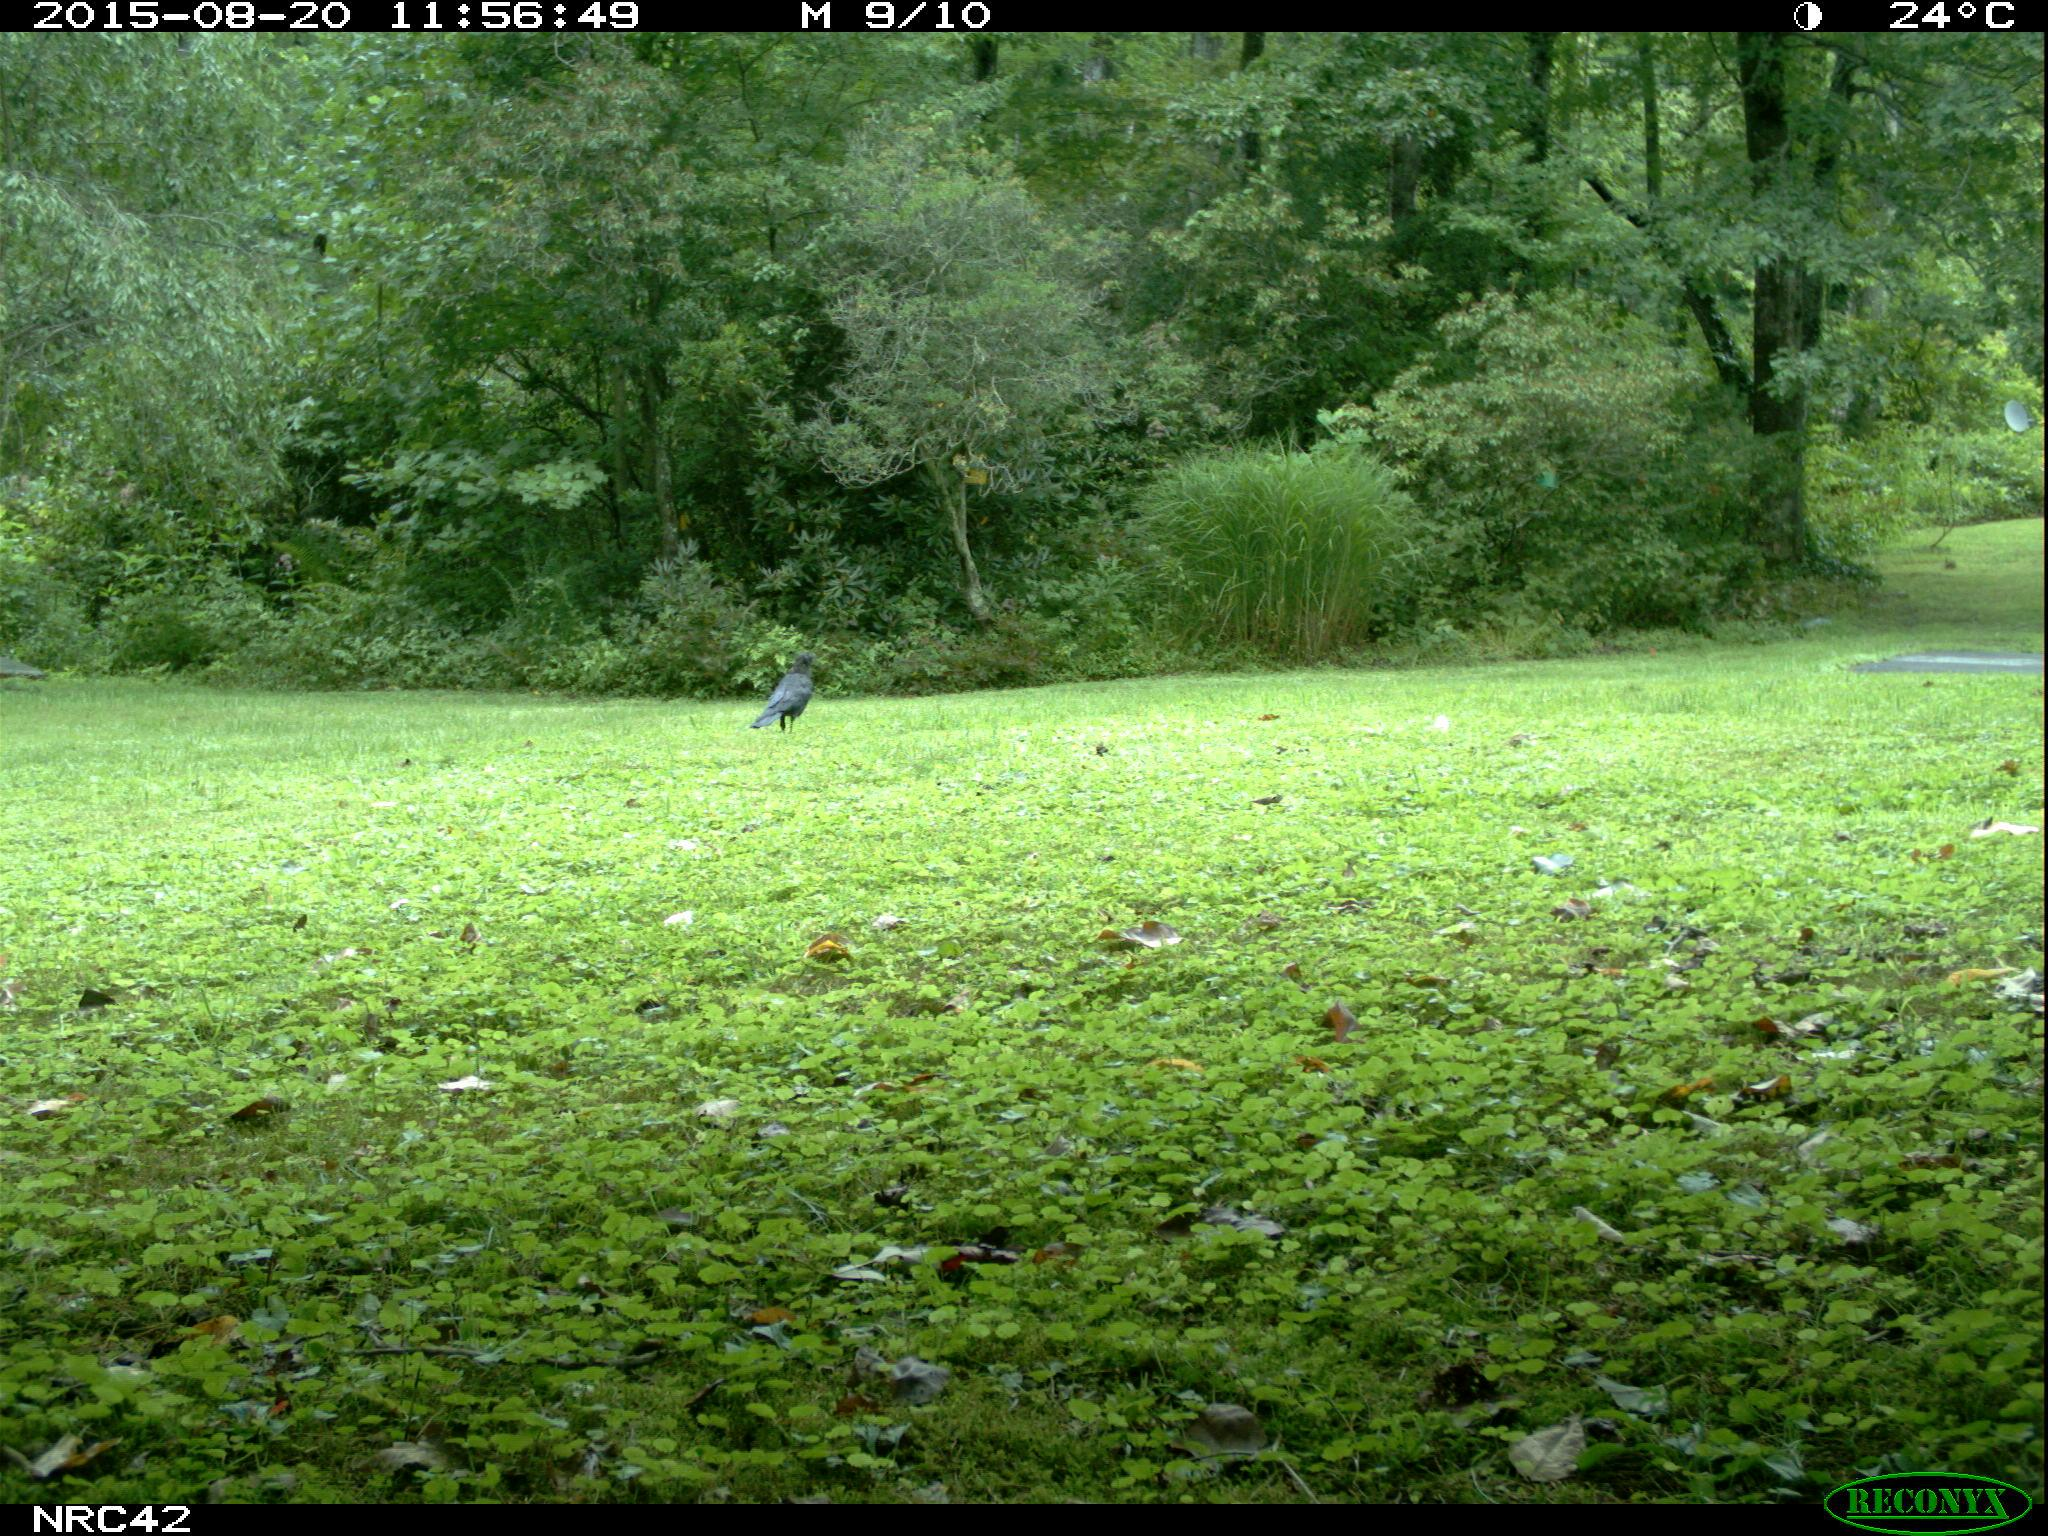Animal: (751, 653, 819, 744)
